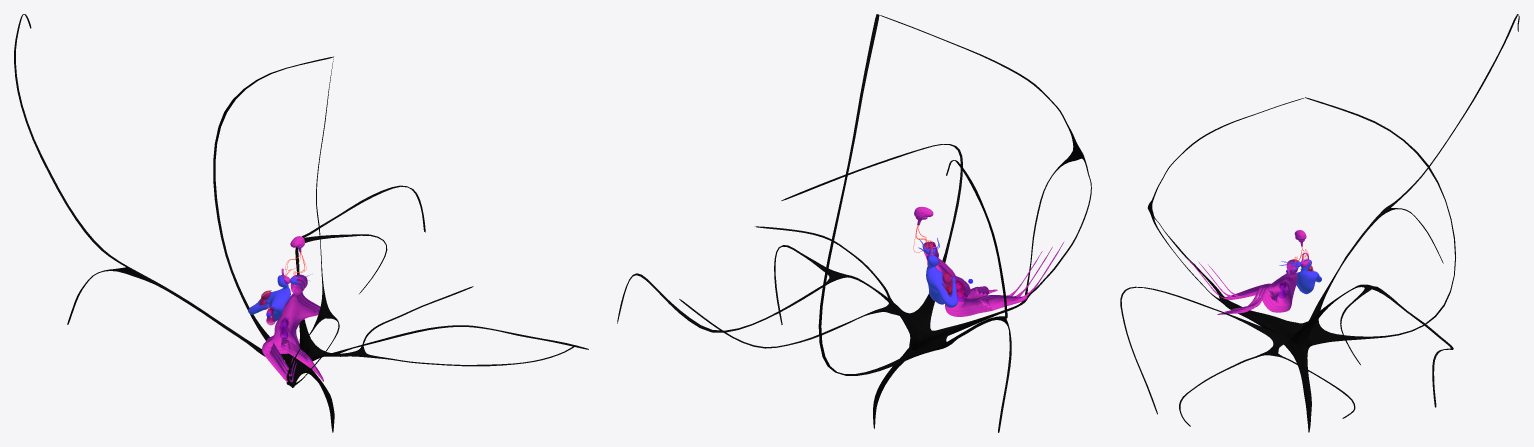
The model's file is hermaphrodite-giant.glb.
The picture shows the model from 3 angles, left to right: view 1: azimuth 30°, elevation 25°; view 2: azimuth 150°, elevation 25°; view 3: azimuth 270°, elevation 25°; orthographic projection. The views are drawn at different scales.
Visible parts, largest first — view 1: Box933, Box936, Object156; view 2: Box933, Box936, Object156; view 3: Box933, Box936, Object156.
Boxes of the visible parts, x1=… form: Box933: x1=14, y1=14, x2=588, y2=432; Box936: x1=262, y1=274, x2=323, y2=382; Object156: x1=248, y1=275, x2=290, y2=321; Box933: x1=617, y1=14, x2=1091, y2=432; Box936: x1=923, y1=241, x2=1064, y2=316; Object156: x1=926, y1=255, x2=957, y2=307; Box933: x1=1120, y1=14, x2=1519, y2=432; Box936: x1=1188, y1=258, x2=1298, y2=314; Object156: x1=1296, y1=259, x2=1321, y2=294.
Bounding box in the file's own units: 135 × 126 × 136.
